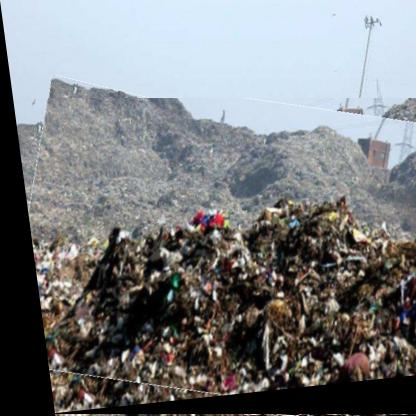Garbage: (11, 99, 416, 416)
